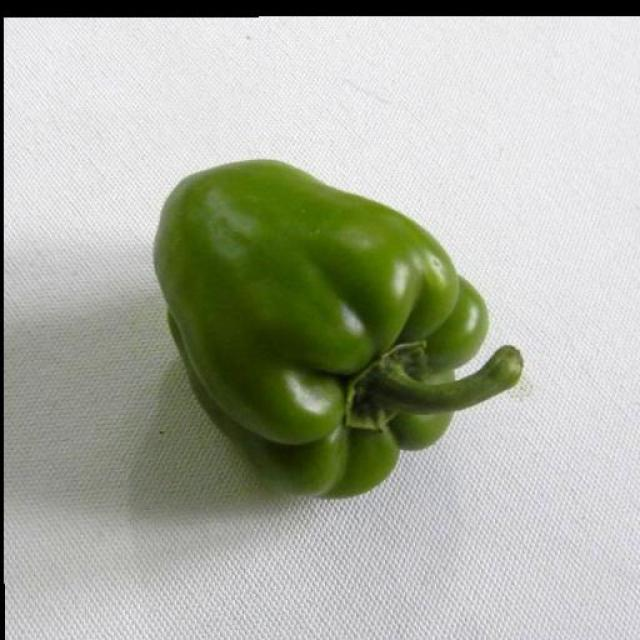Fresh_Capsicum: (156, 162, 539, 484)
